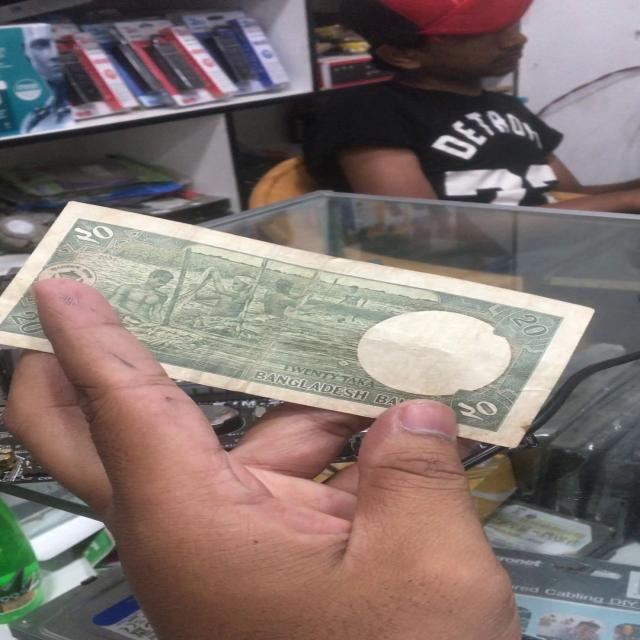Taka: (7, 205, 575, 438)
